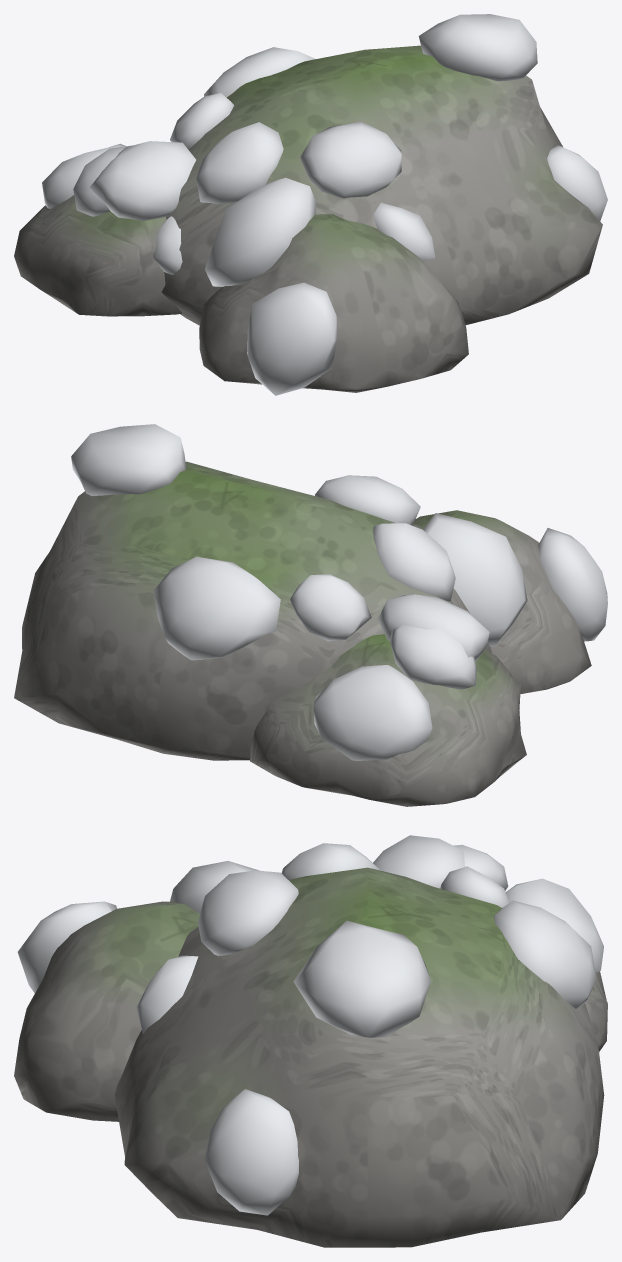
File: ore_silver_cluster.glb
3 views of the same model, one above another, from view 1: azimuth 30°, elevation 25°; view 2: azimuth 150°, elevation 25°; view 3: azimuth 270°, elevation 25° (orthographic). The views are drawn at different scales.
Visible parts, largest first — view 1: ore_silver_stone, ore_silver; view 2: ore_silver_stone, ore_silver; view 3: ore_silver_stone, ore_silver.
Part boxes in pixels (x1,y1,x2,y2): ore_silver_stone: [14, 45, 602, 392]; ore_silver: [42, 14, 607, 395]; ore_silver_stone: [14, 461, 591, 806]; ore_silver: [71, 424, 607, 760]; ore_silver_stone: [14, 867, 607, 1247]; ore_silver: [17, 835, 603, 1215].
Size of the model in its own units: 1.92 by 0.8487 by 1.67.
2 materials, 1 textured.
